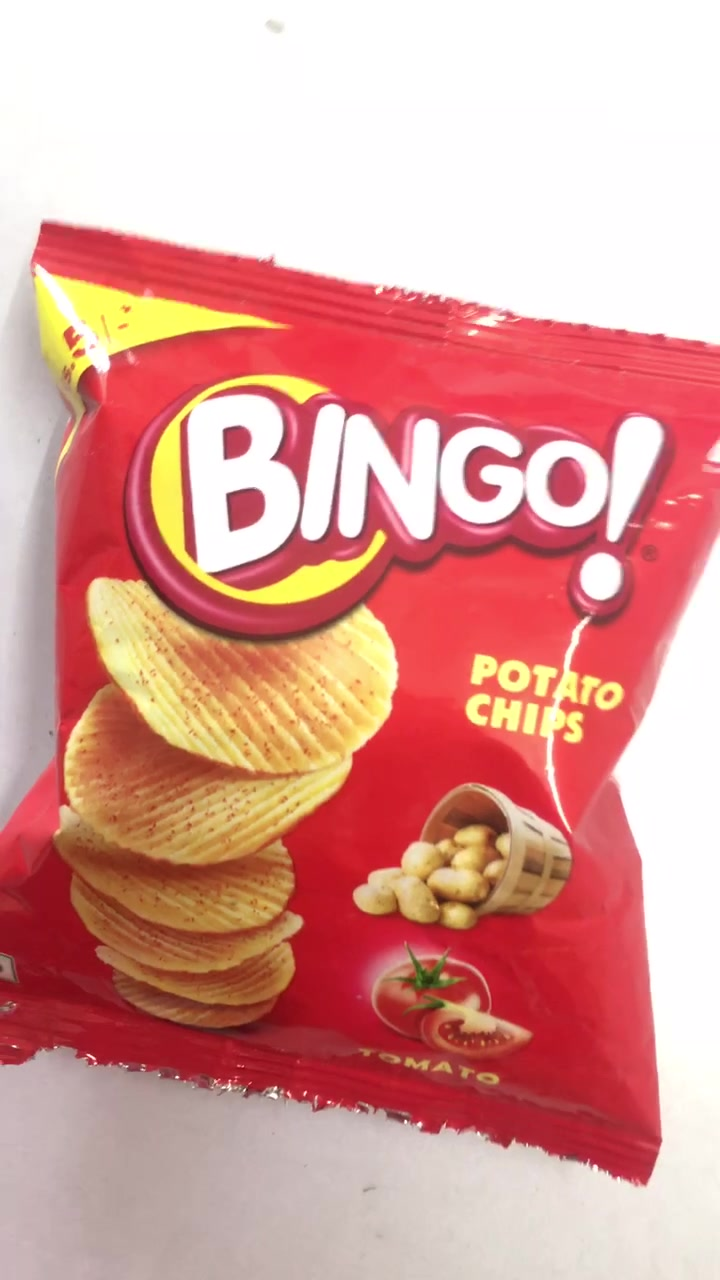Bingo: (13, 227, 717, 1167)
